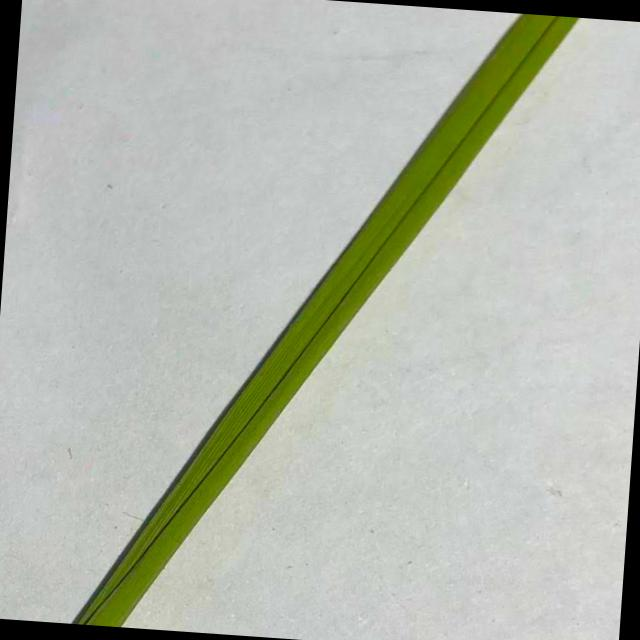Rice_Healthy: (77, 13, 579, 626)
